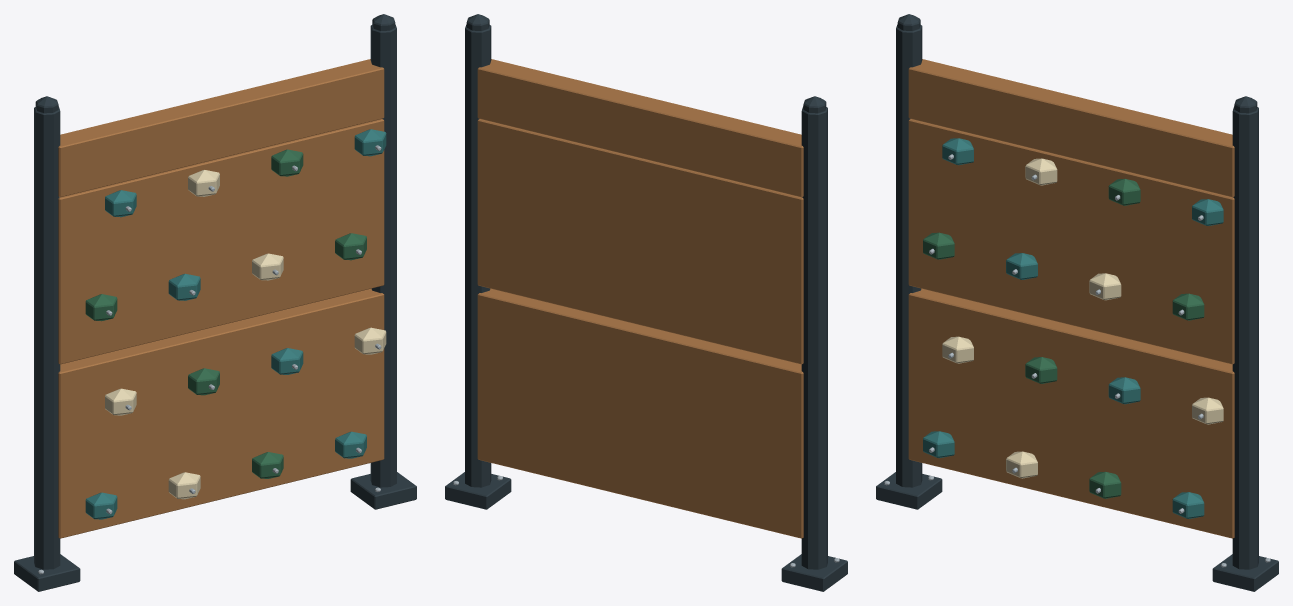
Rendered from b09_climbing_wall.glb.
3 views of the same model, side by side, from view 1: azimuth 30°, elevation 25°; view 2: azimuth 150°, elevation 25°; view 3: azimuth 330°, elevation 25° (orthographic).
Visible parts, largest first — view 1: b09_climbing_wall; view 2: b09_climbing_wall; view 3: b09_climbing_wall.
Boxes of the visible parts, x1,y1,x2,y2 form: b09_climbing_wall: [14, 14, 416, 591]; b09_climbing_wall: [445, 14, 847, 591]; b09_climbing_wall: [876, 14, 1278, 591].
Size of the model in its own units: 1.96 by 2.38 by 0.3.
